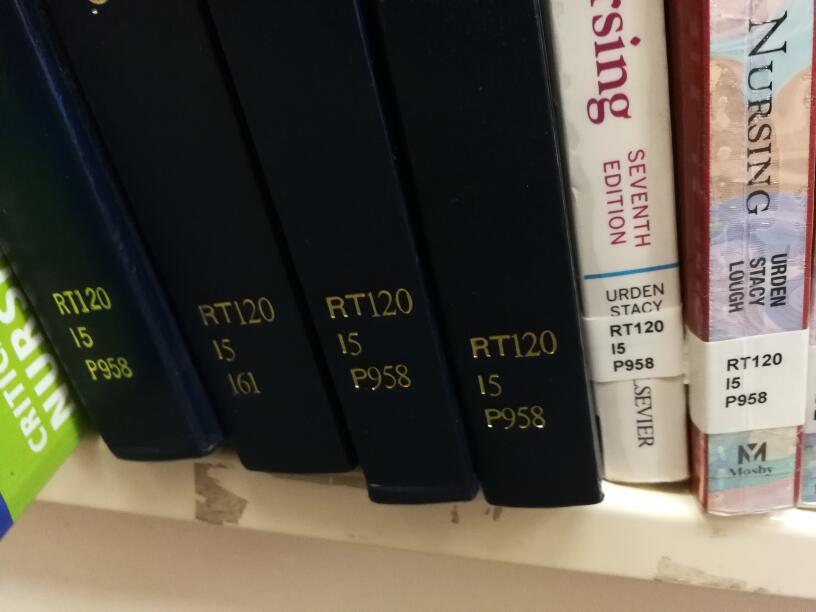booklabel: (315, 284, 419, 396), (461, 325, 562, 435), (188, 292, 282, 401), (46, 279, 139, 387), (719, 348, 786, 411), (603, 317, 668, 376)
